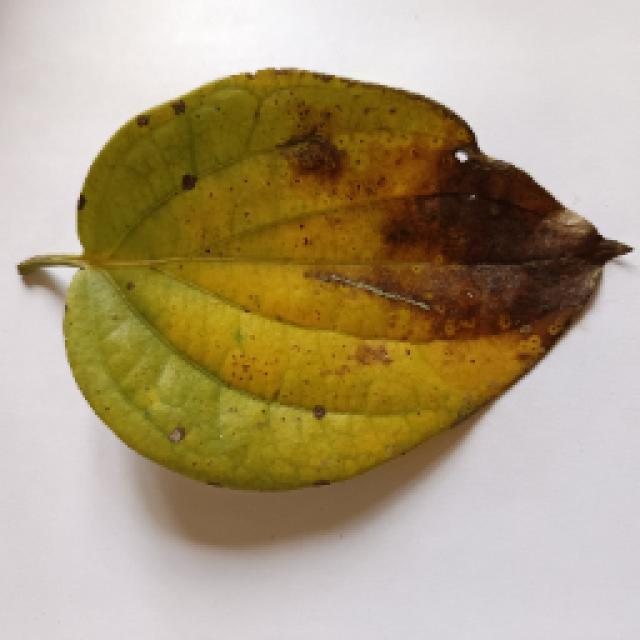slow-decline: (10, 82, 618, 500)
